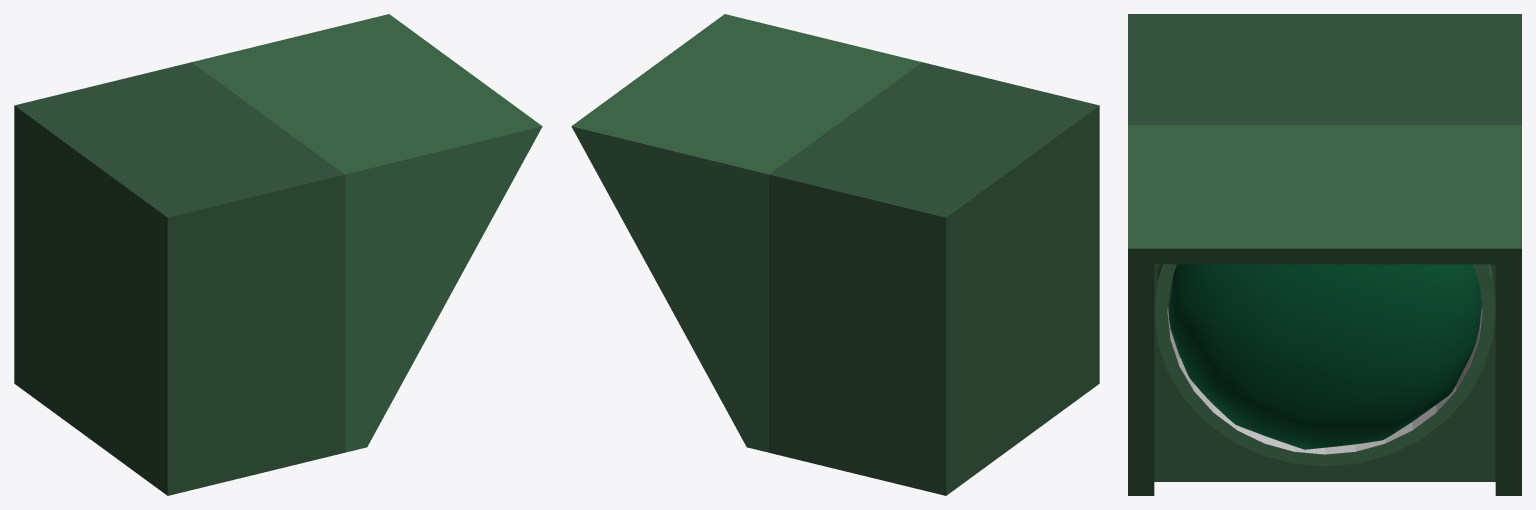
File: tl_green_off.obj
3 renders of one model, left to right at view 1: azimuth 30°, elevation 25°; view 2: azimuth 150°, elevation 25°; view 3: azimuth 270°, elevation 25°, orthographic. The views are drawn at different scales.
Parts seen in each view (by area): view 1: Cube, Cube.001; view 2: Cube, Cube.001; view 3: Cube.001, Cube, 球體, 圓柱體.
Part boxes in pixels (x1,y1,x2,y2): Cube: (14,62,344,495); Cube.001: (192,14,542,452); Cube: (769,62,1099,495); Cube.001: (571,14,921,452); Cube.001: (1128,125,1521,495); Cube: (1128,14,1521,481); 球體: (1168,264,1481,449); 圓柱體: (1154,264,1495,466).
Bounding box in the file's own units: 1.05 × 0.7481 × 0.7481.
